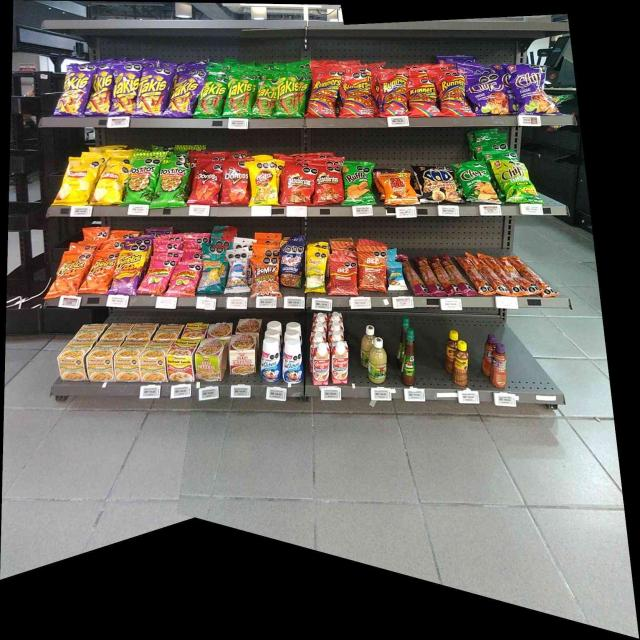bitzAlmendras: (387, 263, 405, 293)
bitzEnchilado90: (359, 243, 385, 290), (328, 256, 357, 294)
bitzEnchilado95: (464, 255, 547, 298)
bitzHabanero: (408, 255, 461, 297)
bokadosCacahuates: (282, 242, 302, 288)
botaneraChilito: (452, 341, 469, 386)
cheetosFlaminHot: (113, 247, 139, 295)
cheetosOriginal: (54, 252, 85, 296), (86, 251, 111, 296)
chipsFuego: (512, 63, 548, 115), (468, 76, 511, 114)
chipsJalapeno: (458, 163, 492, 203)
chipsPapatinas: (495, 161, 537, 205)
churrumais: (171, 258, 197, 296), (144, 258, 168, 292)
delPrimoSalsa: (369, 336, 387, 384)
doritosNacho: (191, 160, 219, 204), (222, 162, 246, 206)
fritosLimon: (248, 160, 280, 205)
hotNutsOriginal: (377, 170, 414, 206)
leoCacahuates: (227, 250, 249, 294)
leoMix: (252, 257, 280, 297)
maruchanPollo: (59, 341, 87, 381), (90, 339, 114, 382), (142, 340, 166, 382), (117, 339, 139, 382)
maruchanRes: (168, 339, 194, 382)
nestleCarnation: (331, 342, 349, 384), (314, 344, 330, 385)
nestleLechera: (261, 340, 281, 383), (284, 339, 300, 384)
nissinCamaron: (196, 339, 225, 381)
nissinRes: (230, 334, 256, 374)
popKarameladas: (417, 166, 455, 202)
rancheritos: (282, 164, 314, 206), (317, 163, 340, 204)
rufflesQueso: (342, 162, 373, 204)
runners: (340, 70, 374, 117), (376, 72, 408, 116), (311, 71, 338, 118), (410, 79, 440, 116), (442, 72, 466, 118)
sabritasOriginal: (62, 158, 90, 206), (94, 160, 125, 203)
salsaBufalo: (402, 329, 416, 383)
semillasCalabaza: (305, 246, 325, 290)
semillasGirasol: (200, 244, 223, 294)
tajinDulce: (492, 345, 508, 389)
takisFuego: (167, 68, 199, 117), (62, 65, 88, 117), (140, 66, 166, 116), (114, 66, 138, 114), (90, 66, 112, 115)
takisOriginal: (201, 70, 225, 118), (227, 73, 253, 115), (278, 76, 301, 116), (256, 80, 276, 117)
tostitos: (154, 157, 186, 205), (130, 156, 152, 204)
